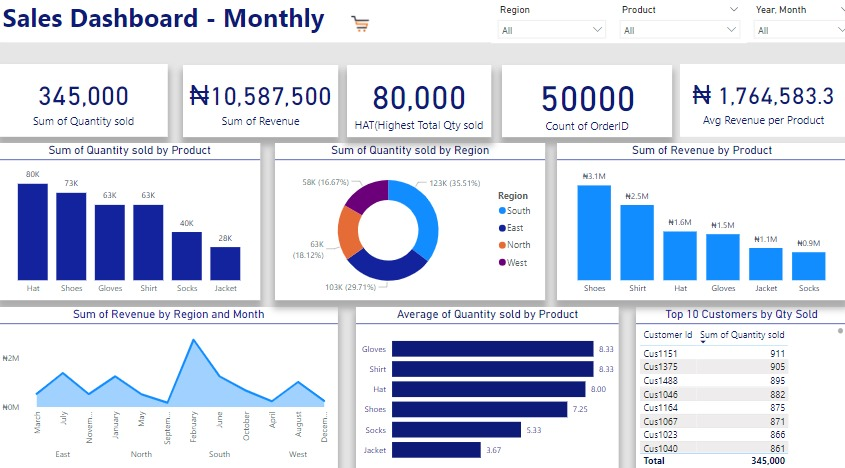

What the dashboard file says about the page in this screenshot:
{"tool":"powerbi","page":{"name":"Page 1","canvas":[1280,720],"ordinal":0},"visuals":[{"type":"textbox","title":"Sales Dashboard - Monthly","box":[17.6,19.1,1246,94],"z":0},{"type":"card","fields":{"Values":["Sum(Sheet1.Quantity sold)"]},"box":[17.6,113.1,248.3,107.3],"z":1000},{"type":"card","fields":{"Values":["Sum(Sheet1.Revenue)"]},"box":[288,114.6,227.8,105.8],"z":2000},{"type":"card","fields":{"Values":["CountNonNull(Sheet1.OrderID)"]},"box":[756.7,114.6,249.8,105.8],"z":3000},{"type":"clusteredColumnChart","fields":{"Category":["Sheet1.Product"],"Y":["Sum(Sheet1.Quantity sold)"]},"box":[17.6,229.2,383.5,230.7],"z":4000},{"type":"areaChart","fields":{"Category":["Sheet1.Region","Sheet1.OrderMonth.Variation.Date Hierarchy.Month","Sheet1.OrderMonth.Variation.Date Hierarchy.Day"],"Y":["Sum(Sheet1.Revenue)"]},"box":[17.6,470.2,498.1,238],"z":5000},{"type":"donutChart","fields":{"Y":["Sum(Sheet1.Quantity sold)"],"Category":["Sheet1.Region"]},"box":[423.2,229.2,396.7,230.7],"z":6000},{"type":"tableEx","title":"Top 10 Customers by Qty Sold","fields":{"Values":["Sheet1.Customer Id","Sum(Sheet1.Quantity sold)"]},"box":[953.6,470.2,310,238],"z":7000},{"type":"clusteredColumnChart","fields":{"Y":["Sum(Sheet1.Revenue)"],"Category":["Sheet1.Product"]},"box":[837.6,229.2,426.1,230.7],"z":8000},{"type":"clusteredBarChart","fields":{"Y":["Avg(Sheet1.Quantity sold)"],"Category":["Sheet1.Product"]},"box":[542.2,470.2,386.4,238],"z":9000},{"type":"slicer","fields":{"Values":["Sheet1.OrderMonth.Variation.Date Hierarchy.Year","Sheet1.OrderMonth.Variation.Date Hierarchy.Month"]},"box":[1116.7,20.6,163.1,61.7],"z":10000},{"type":"slicer","fields":{"Values":["Sheet1.Product"]},"box":[919.8,20.6,196.9,61.7],"z":12000},{"type":"card","fields":{"Values":["Sheet1.Avg Revenue per Product"]},"box":[1018.3,113.1,245.4,107.3],"z":13000},{"type":"slicer","fields":{"Values":["Sheet1.Region"]},"box":[740.6,20.6,179.3,61.7],"z":14000},{"type":"image","box":[506.9,19.1,70.5,61.7],"z":15000},{"type":"card","fields":{"Values":["Sum(Sheet1.Quantity sold)"]},"box":[529.1,114.2,211.7,105.8],"z":15001}]}

Visuals, with their boxes in screenshot pixels (x1, y1, x2, y2), scaled from the page's 1280x720 canvas onto the 845x468 screenshot:
"Sales Dashboard - Monthly" textbox: [12, 12, 834, 74]
card - Sum(Sheet1.Quantity sold): [12, 74, 176, 143]
card - Sum(Sheet1.Revenue): [190, 74, 341, 143]
card - CountNonNull(Sheet1.OrderID): [500, 74, 664, 143]
clusteredColumnChart - Sheet1.Product x Sum(Sheet1.Quantity sold): [12, 149, 265, 299]
areaChart - Sheet1.Region x Sheet1.OrderMonth.Variation.Date Hierarchy.Month: [12, 306, 340, 460]
donutChart - Sum(Sheet1.Quantity sold) x Sheet1.Region: [279, 149, 541, 299]
"Top 10 Customers by Qty Sold" tableEx: [630, 306, 834, 460]
clusteredColumnChart - Sum(Sheet1.Revenue) x Sheet1.Product: [553, 149, 834, 299]
clusteredBarChart - Avg(Sheet1.Quantity sold) x Sheet1.Product: [358, 306, 613, 460]
slicer - Sheet1.OrderMonth.Variation.Date Hierarchy.Year x Sheet1.OrderMonth.Variation.Date Hierarchy.Month: [737, 13, 844, 53]
slicer - Sheet1.Product: [607, 13, 737, 53]
card - Sheet1.Avg Revenue per Product: [672, 74, 834, 143]
slicer - Sheet1.Region: [489, 13, 607, 53]
image: [335, 12, 381, 53]
card - Sum(Sheet1.Quantity sold): [349, 74, 489, 143]
